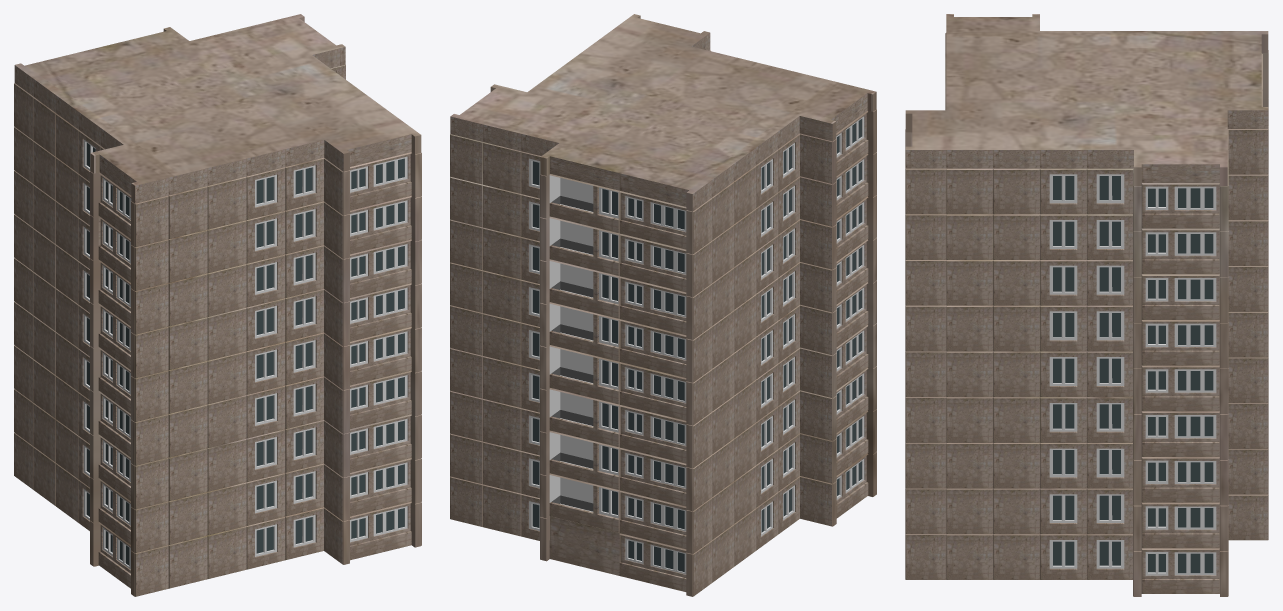
The picture shows the model from 3 angles, left to right: view 1: azimuth 30°, elevation 25°; view 2: azimuth 150°, elevation 25°; view 3: azimuth 270°, elevation 25°; orthographic projection. The views are drawn at different scales.
Parts seen in each view (by area): view 1: Куб.282, Куб.022, Куб.018, Куб.019, Куб.024, Куб.027, Куб.034, Куб.025, Куб.030, Куб.031, Куб.136, Куб.140 (+16 smaller); view 2: Куб.282, Куб.065, Куб.056, Куб.058, Куб.067, Куб.070, Куб.071, Куб.062, Куб.064, Куб.059; view 3: Куб.282, Куб.047, Куб.049, Куб.038, Куб.040, Куб.044, Куб.046, Куб.052, Куб.053, Куб.041, Куб.093, Куб.096 (+25 smaller).
Boxes of the visible parts, x1,y1,x2,y2 form: Куб.282: (14, 14, 421, 596); Куб.022: (373, 331, 407, 361); Куб.018: (373, 462, 407, 492); Куб.019: (373, 156, 407, 186); Куб.024: (373, 200, 407, 230); Куб.027: (373, 287, 407, 317); Куб.034: (373, 506, 407, 536); Куб.025: (373, 244, 407, 274); Куб.030: (373, 418, 407, 448); Куб.031: (373, 375, 407, 405); Куб.136: (293, 383, 315, 416); Куб.140: (293, 209, 315, 241); Куб.282: (450, 14, 876, 596); Куб.065: (650, 245, 686, 274); Куб.056: (650, 544, 686, 574); Куб.058: (650, 416, 686, 445); Куб.067: (650, 373, 686, 402); Куб.070: (650, 202, 686, 231); Куб.071: (650, 502, 686, 531); Куб.062: (650, 330, 686, 360); Куб.064: (650, 288, 686, 317); Куб.059: (650, 459, 686, 488); Куб.282: (905, 14, 1268, 596); Куб.047: (1174, 232, 1216, 255); Куб.049: (1174, 369, 1216, 392); Куб.038: (1174, 552, 1216, 575); Куб.040: (1174, 415, 1216, 438); Куб.044: (1174, 323, 1216, 346); Куб.046: (1174, 278, 1216, 301); Куб.052: (1174, 186, 1216, 209); Куб.053: (1174, 506, 1216, 529); Куб.041: (1174, 461, 1216, 483); Куб.093: (1049, 174, 1077, 203); Куб.096: (1049, 265, 1077, 294).
Size of the model in its own units: 16.15 by 21.06 by 16.15.
291 materials, 1 textured.
